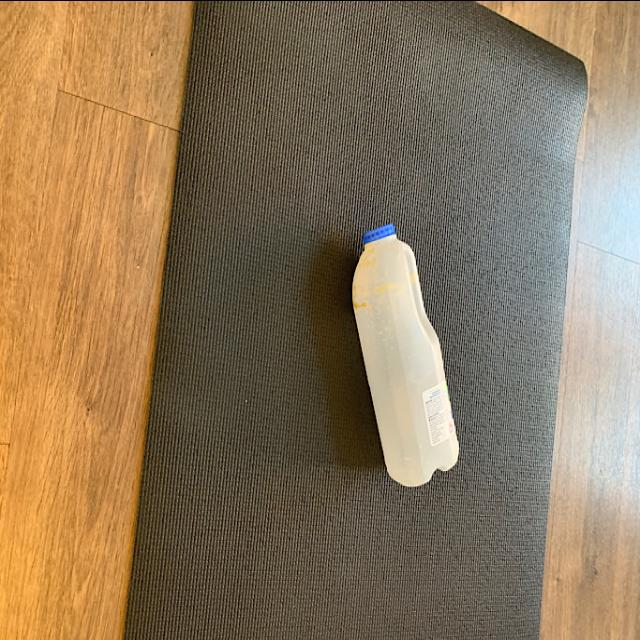litter: (352, 219, 460, 490)
